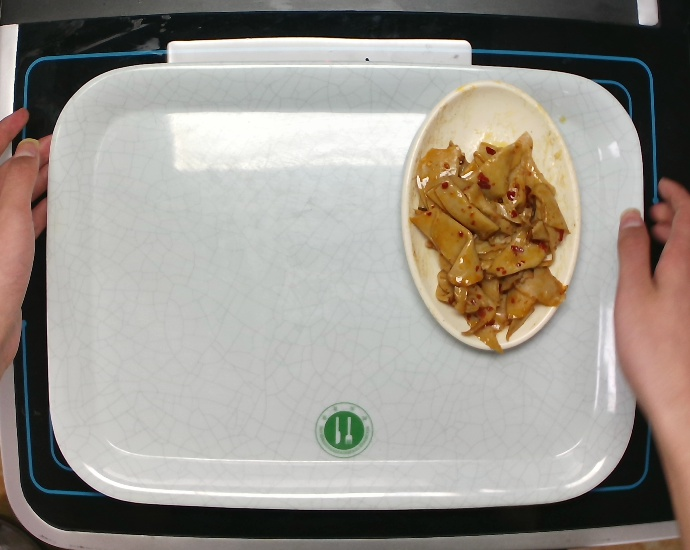JYsf-Tuo_Yuan_Wan: (398, 78, 583, 353)
